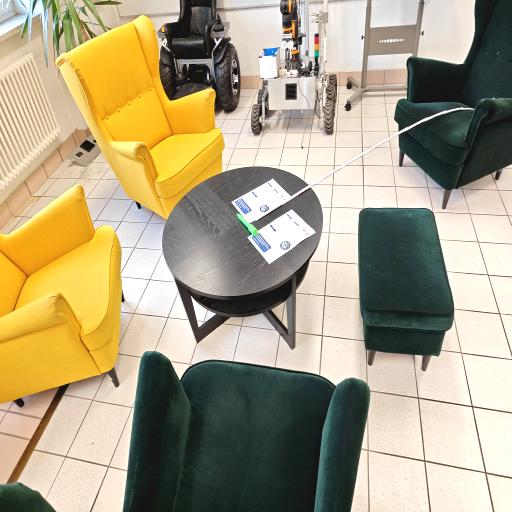Probe-Detection: (237, 214, 258, 236)
